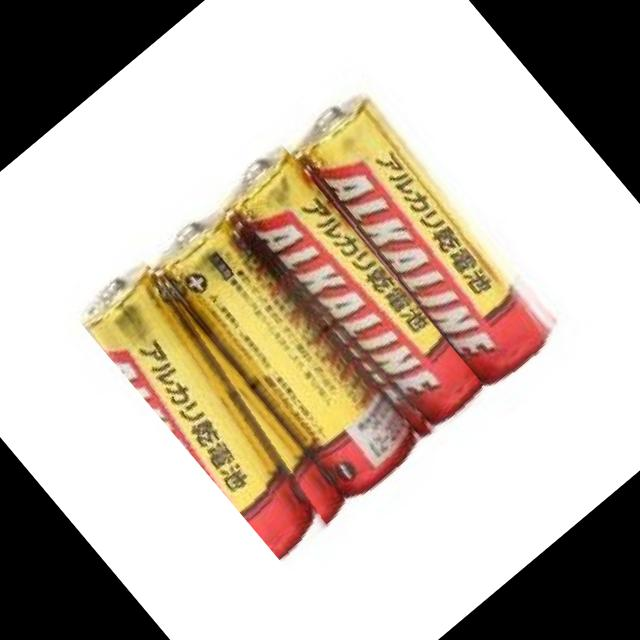Hazard: (276, 70, 572, 393), (68, 245, 362, 570), (210, 134, 500, 452), (141, 196, 426, 511)
